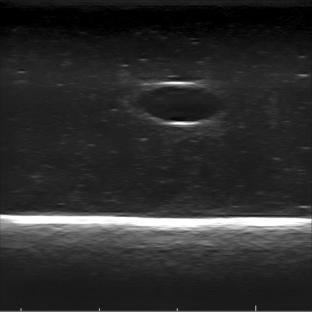vessel: (129, 81, 227, 128)
